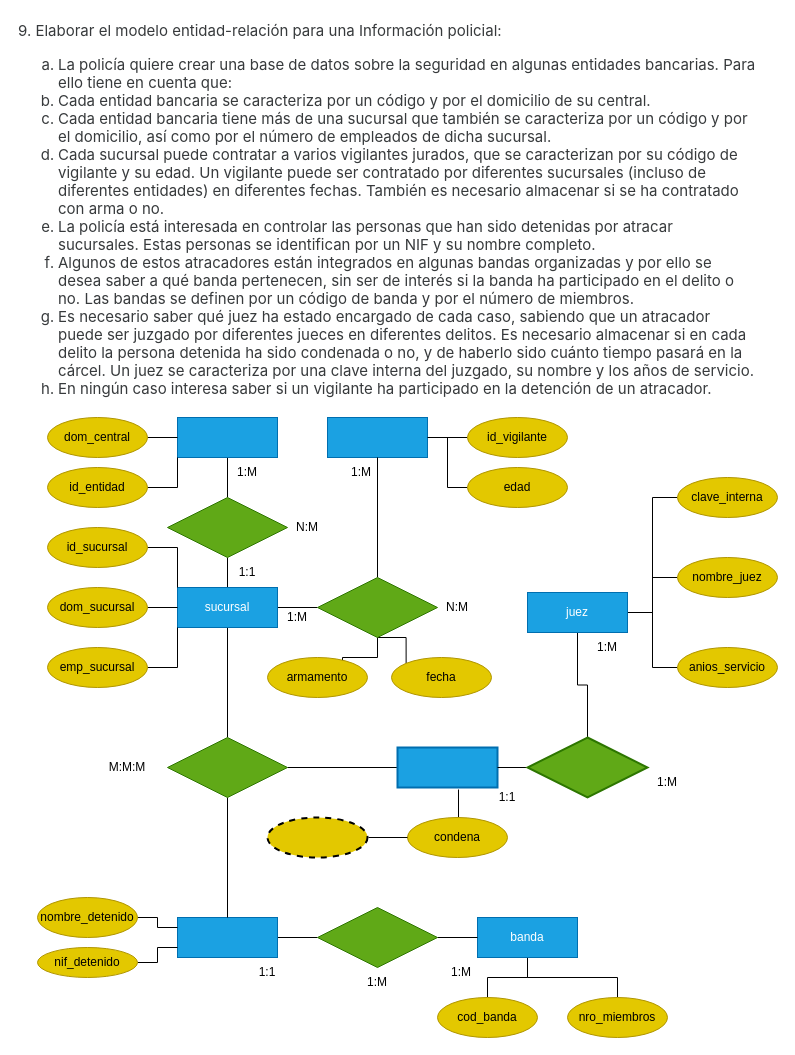
Some shapes in this 795 by 1055 pixel diagram are drawn without their labels. The centre of each missing label's shape, as x and y in pixels:
atraco: point 227,767
caso: point 447,767
contrata: point 377,607
detenidos: point 227,937
entidad_bancaria: point 227,437
pertenece: point 377,937
sentencia: point 587,767
tiempo: point 317,837
tiene: point 227,527
vigilantes: point 377,437
